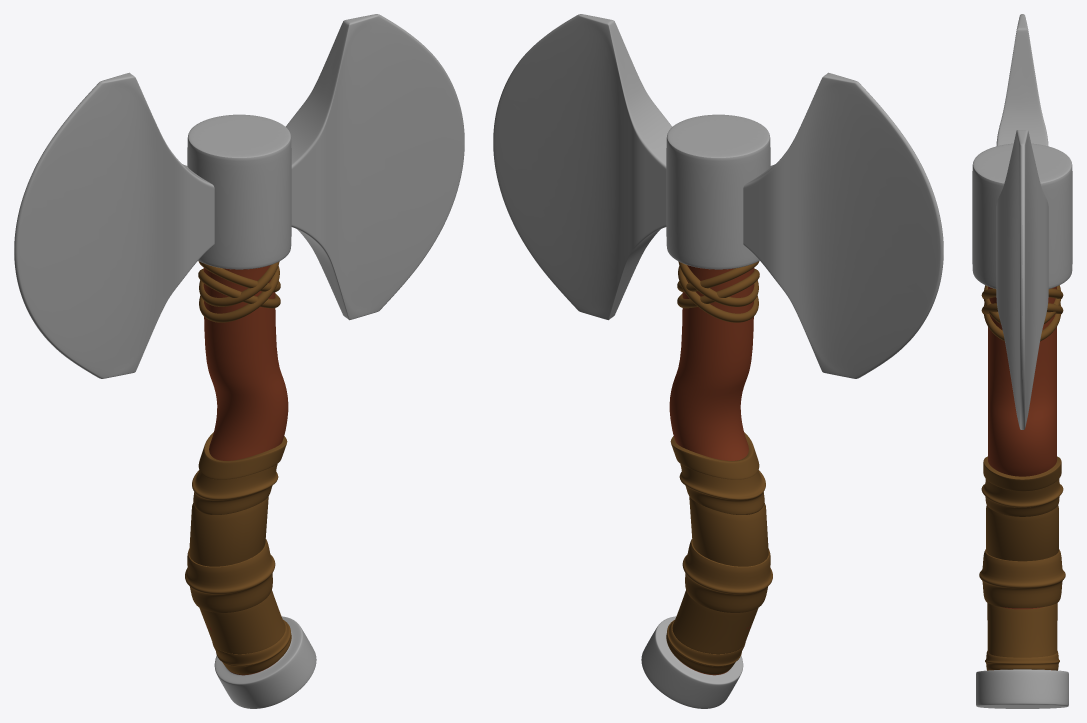
File: viking-weapon-3d-icon-1524028388095.glb
3 views of the same model, side by side, from view 1: azimuth 30°, elevation 25°; view 2: azimuth 150°, elevation 25°; view 3: azimuth 270°, elevation 25° (orthographic). The views are drawn at different scales.
Visible parts, largest first — view 1: Axe Head, Grip Cover, Handle; view 2: Axe Head, Grip Cover, Handle; view 3: Axe Head, Grip Cover, Handle.
Boxes of the visible parts, x1,y1,x2,y2 form: Axe Head: (14, 14, 464, 708); Grip Cover: (185, 261, 291, 674); Handle: (203, 265, 288, 675); Axe Head: (493, 14, 943, 708); Grip Cover: (666, 261, 772, 674); Handle: (669, 265, 754, 675); Axe Head: (972, 14, 1072, 708); Grip Cover: (979, 285, 1065, 670); Handle: (988, 286, 1056, 670).
Size of the model in its own units: 1.42 by 1.97 by 0.2845.
